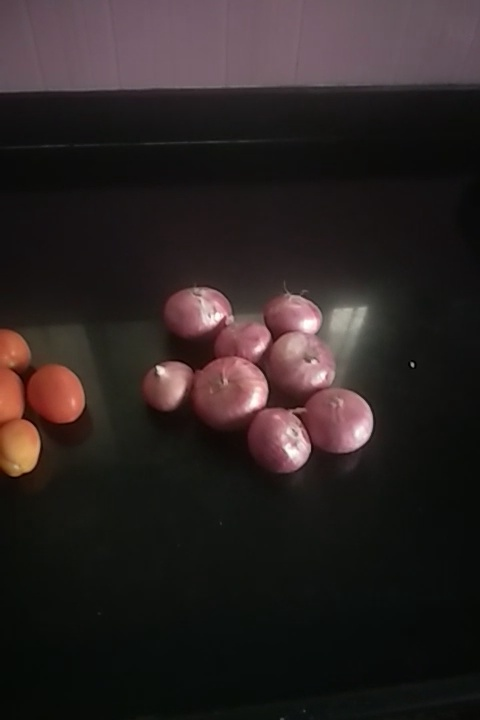onion: (191, 353, 268, 421), (299, 390, 375, 457), (259, 333, 337, 398), (244, 404, 317, 473), (164, 291, 233, 341), (208, 323, 276, 371), (145, 351, 191, 414), (271, 287, 324, 341)
tomato: (24, 361, 88, 424), (1, 417, 43, 488), (1, 326, 31, 375), (1, 368, 22, 433)
